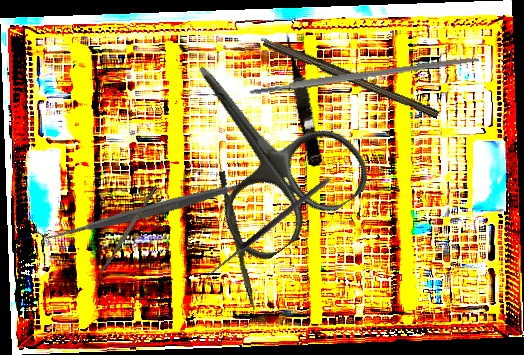Chopper: (91, 185, 163, 288)
Hook Surgical: (201, 175, 336, 289)
Iris Scissors: (140, 21, 380, 270)
Micro Scissor: (280, 29, 326, 168)
Pusher: (214, 171, 262, 311)
Scalpel Handle: (261, 35, 442, 119), (248, 53, 480, 97)
Spatula Surgical: (34, 84, 280, 332)
